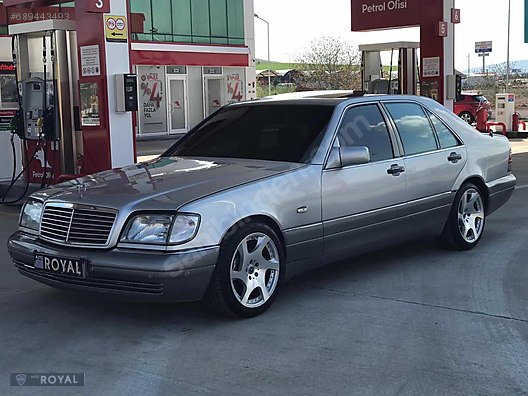m: (1, 86, 519, 332)
